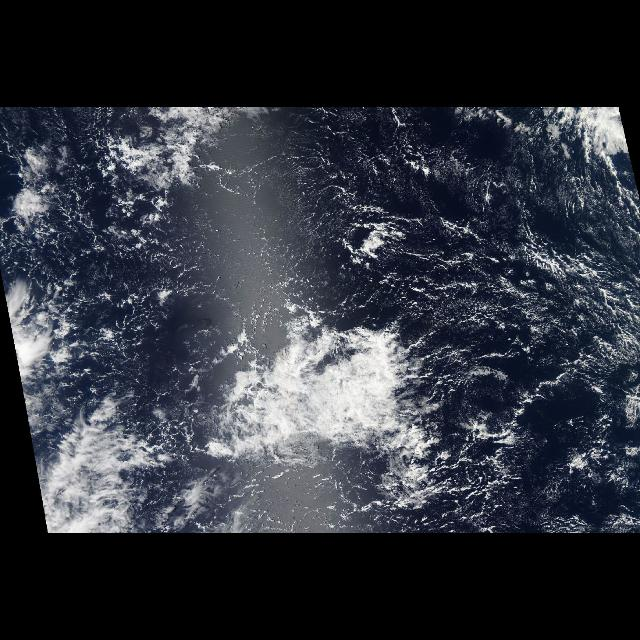Fish: (175, 327, 445, 487)
Gravel: (15, 131, 640, 403)
Sugar: (334, 120, 634, 364)
